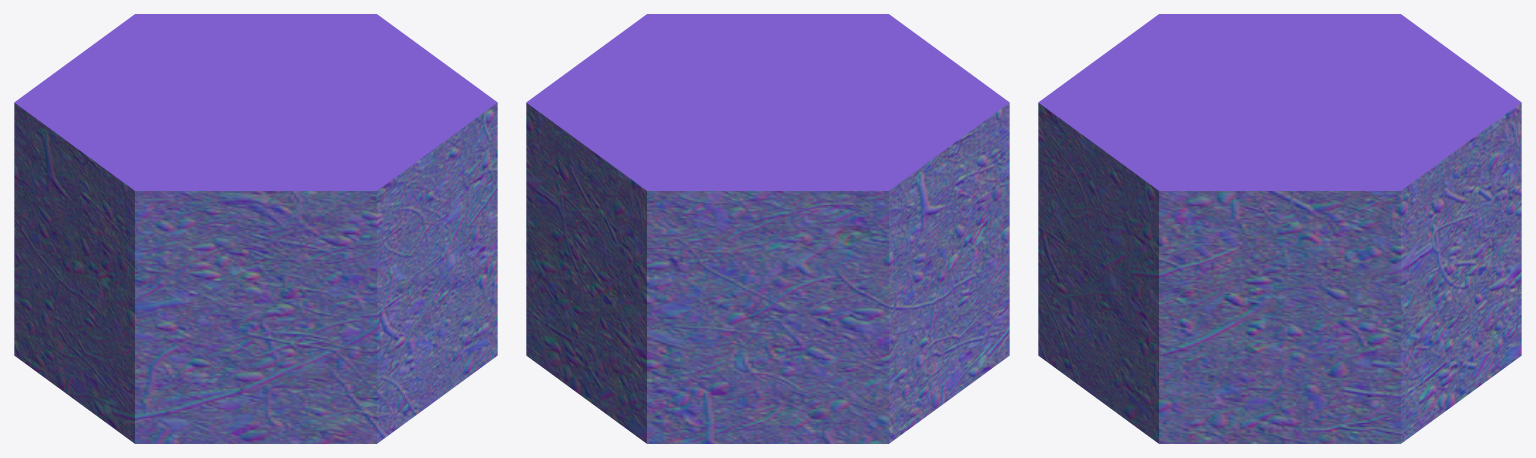
The model's file is Transport_Portal.glb.
3 views of the same model, side by side, from view 1: azimuth 30°, elevation 25°; view 2: azimuth 150°, elevation 25°; view 3: azimuth 270°, elevation 25° (orthographic).
Visible parts, largest first — view 1: Sphere; view 2: Sphere; view 3: Sphere.
Boxes of the visible parts, left/top/right/bottom form: Sphere: left=14, top=14, right=497, bottom=443; Sphere: left=526, top=14, right=1009, bottom=443; Sphere: left=1038, top=14, right=1521, bottom=443.
Size of the model in its own units: 1.5 by 1 by 1.73.
Materials: 1 (1 with a texture image).
